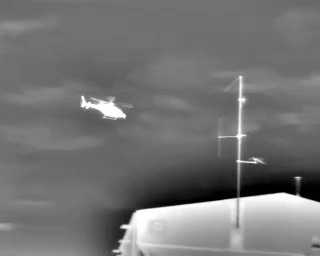HELICOPTER: (76, 89, 137, 128)
